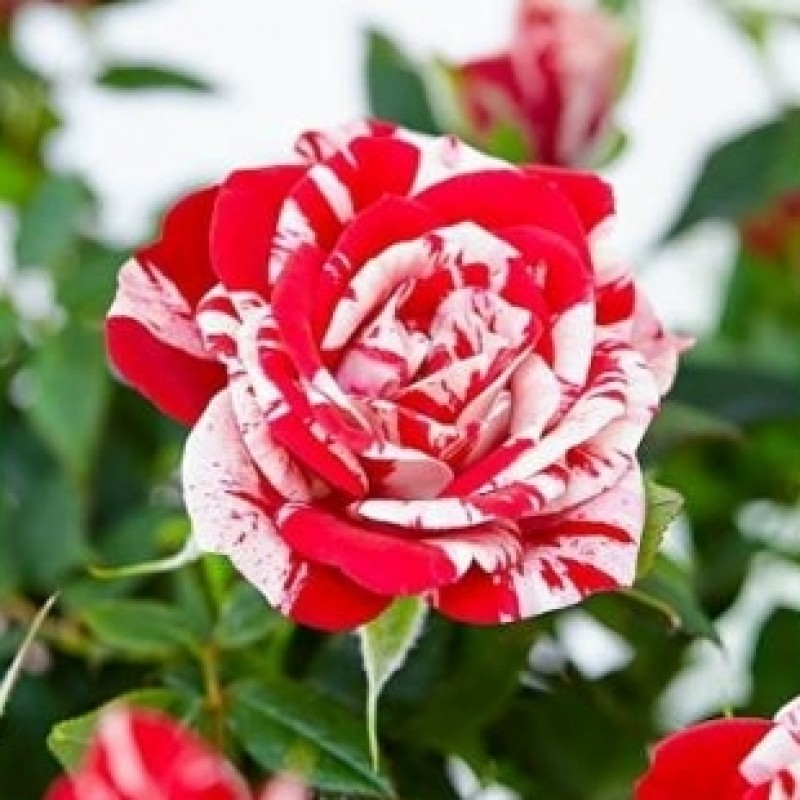rose: (153, 127, 648, 634)
